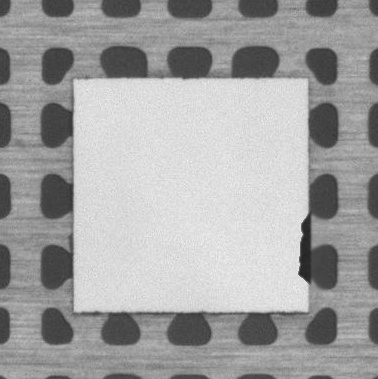DIE_BROKEN: (295, 215, 313, 289)
